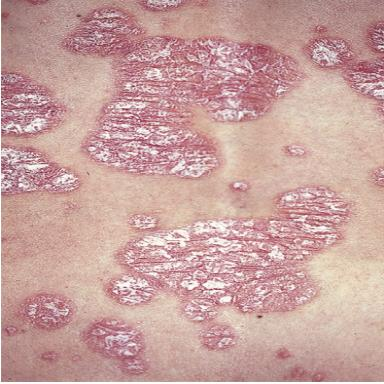Psoriasis: (63, 8, 302, 177), (106, 187, 350, 321), (1, 73, 64, 135), (1, 146, 80, 194), (83, 319, 147, 374), (19, 294, 76, 329), (344, 58, 384, 100), (304, 36, 355, 68), (201, 324, 238, 349), (367, 22, 384, 53), (138, 0, 188, 10), (129, 214, 158, 230), (285, 145, 308, 156), (372, 167, 384, 187), (230, 181, 250, 191), (41, 351, 59, 362), (376, 102, 384, 116), (6, 326, 18, 335), (315, 25, 328, 33)
